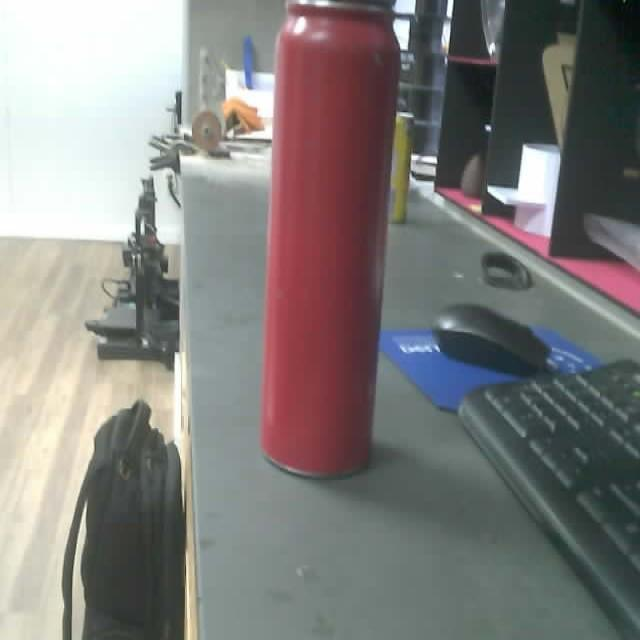water bottle: (259, 1, 402, 476)
